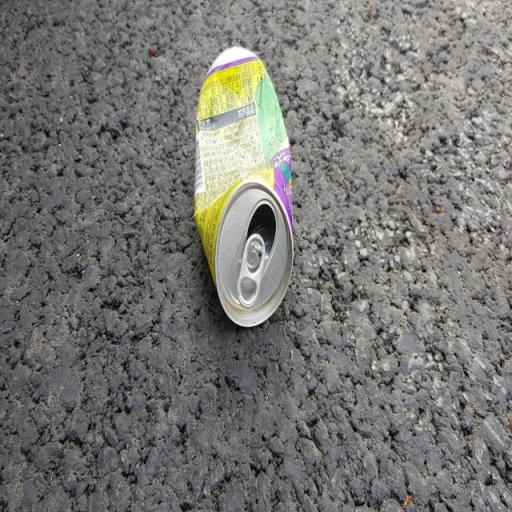metal: (181, 18, 314, 348)
